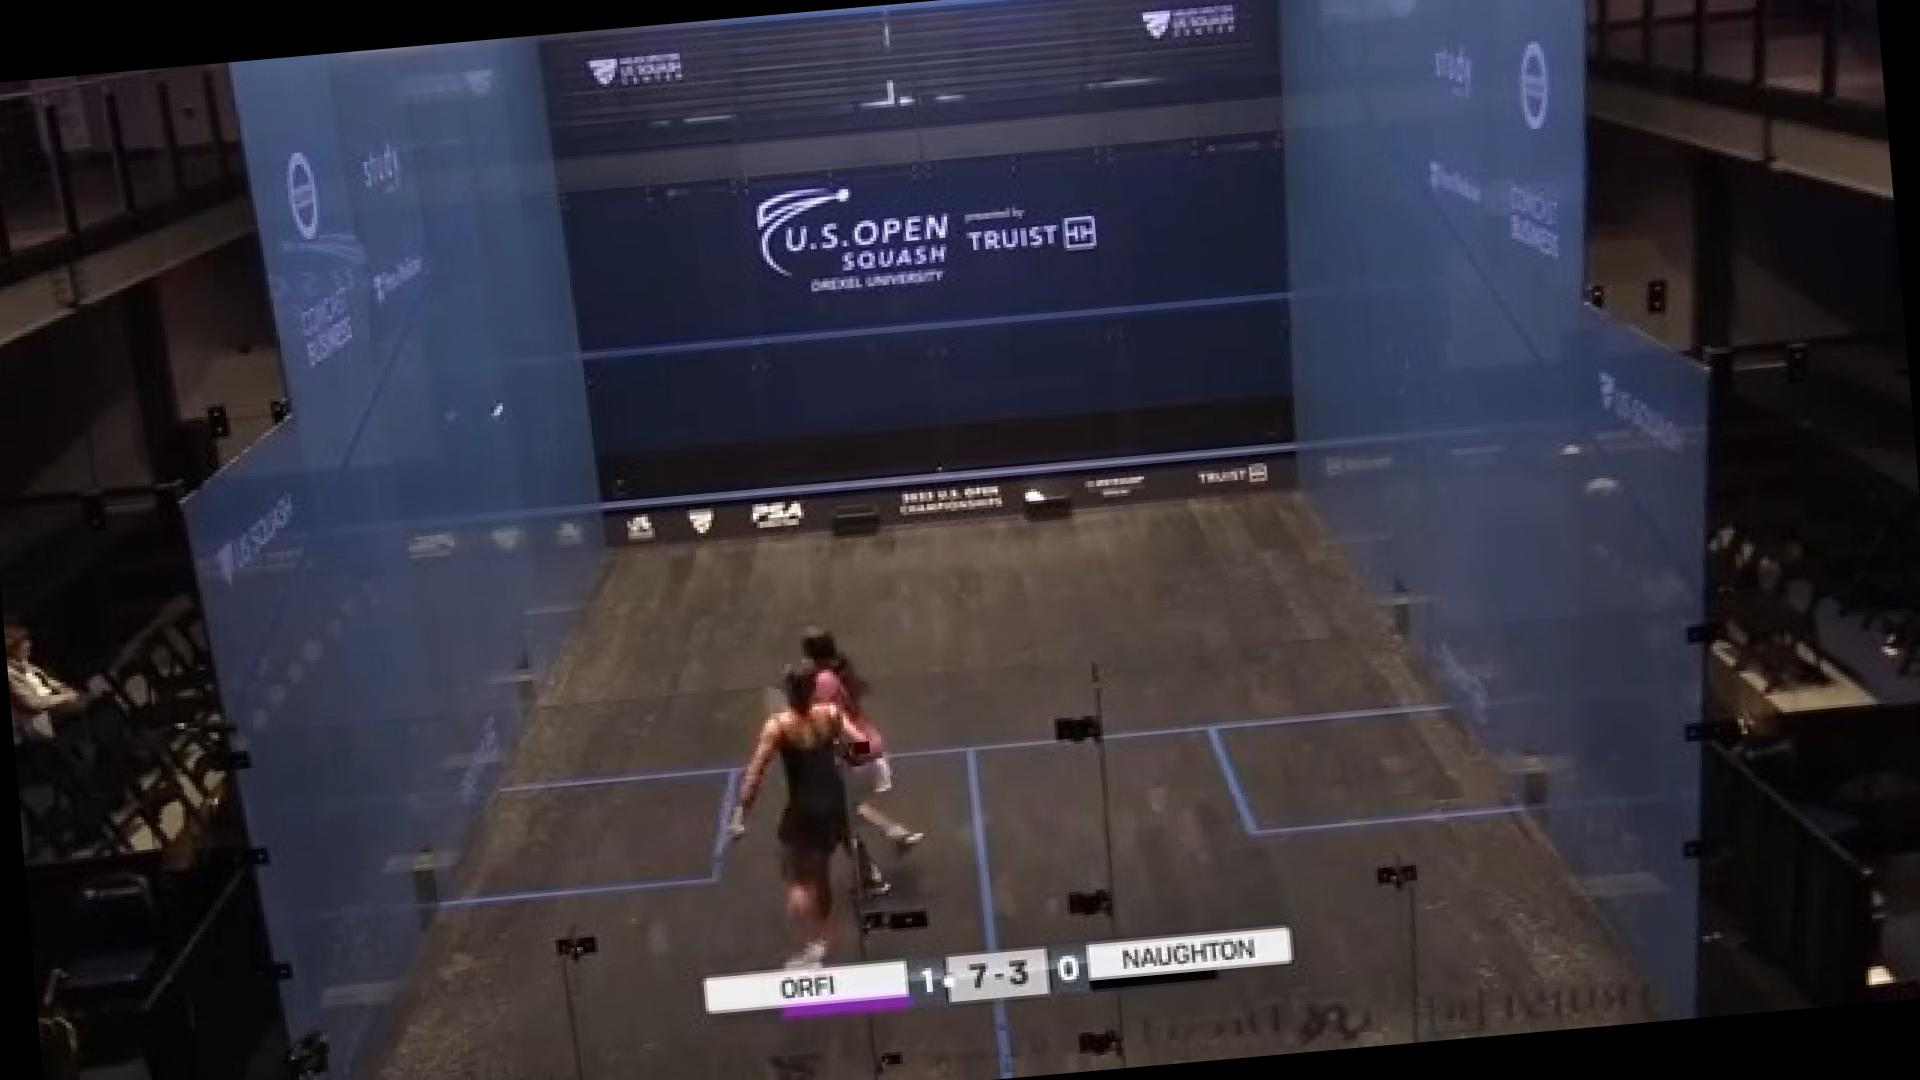Squash-Ball: (476, 390, 520, 434)
